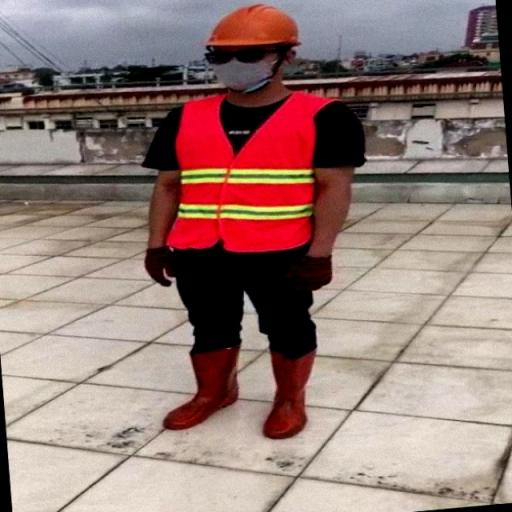Person: (130, 0, 370, 441)
boots: (161, 340, 247, 430), (254, 334, 324, 442)
gloves: (292, 253, 338, 290), (138, 242, 176, 284)
goggles: (208, 39, 294, 63)
helmet: (206, 3, 300, 46)
vest: (156, 86, 320, 256)
